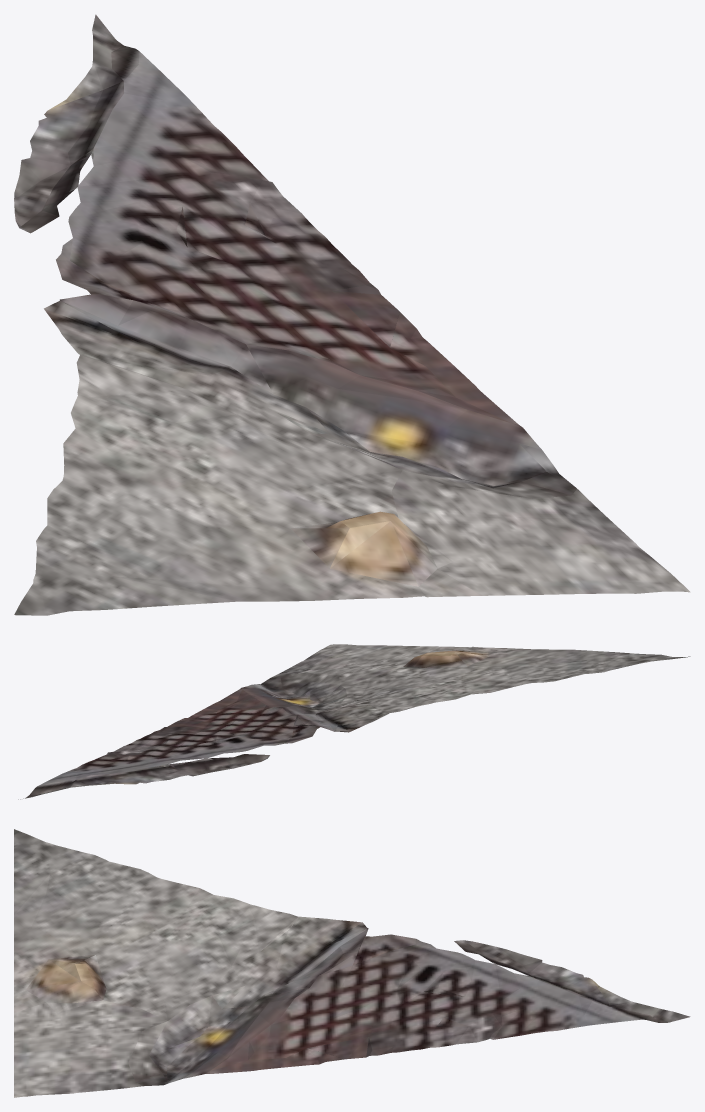
3 views of the same model, one above another, from view 1: azimuth 30°, elevation 25°; view 2: azimuth 150°, elevation 25°; view 3: azimuth 270°, elevation 25° (orthographic). The views are drawn at different scales.
Size of the model in its own units: 0.5493 by 0.1105 by 0.8367.
1 material, 1 textured.
